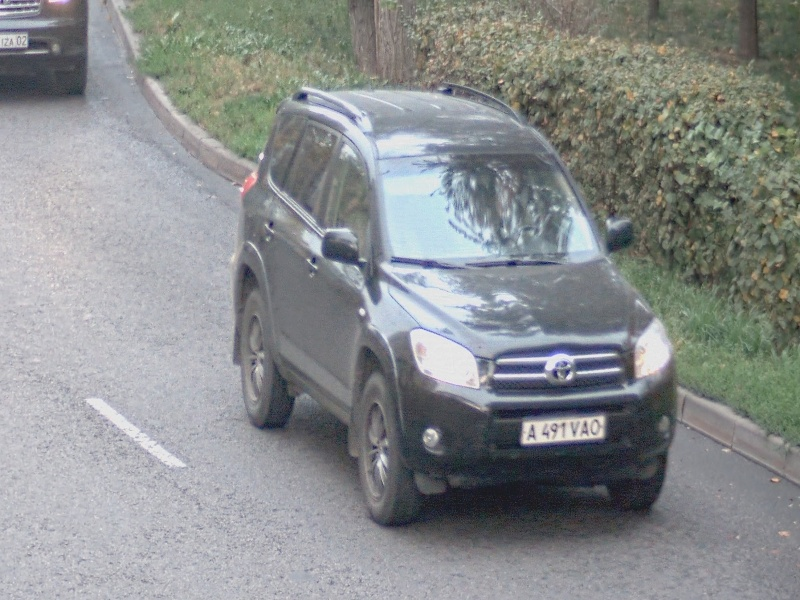plate: (521, 414, 607, 445)
